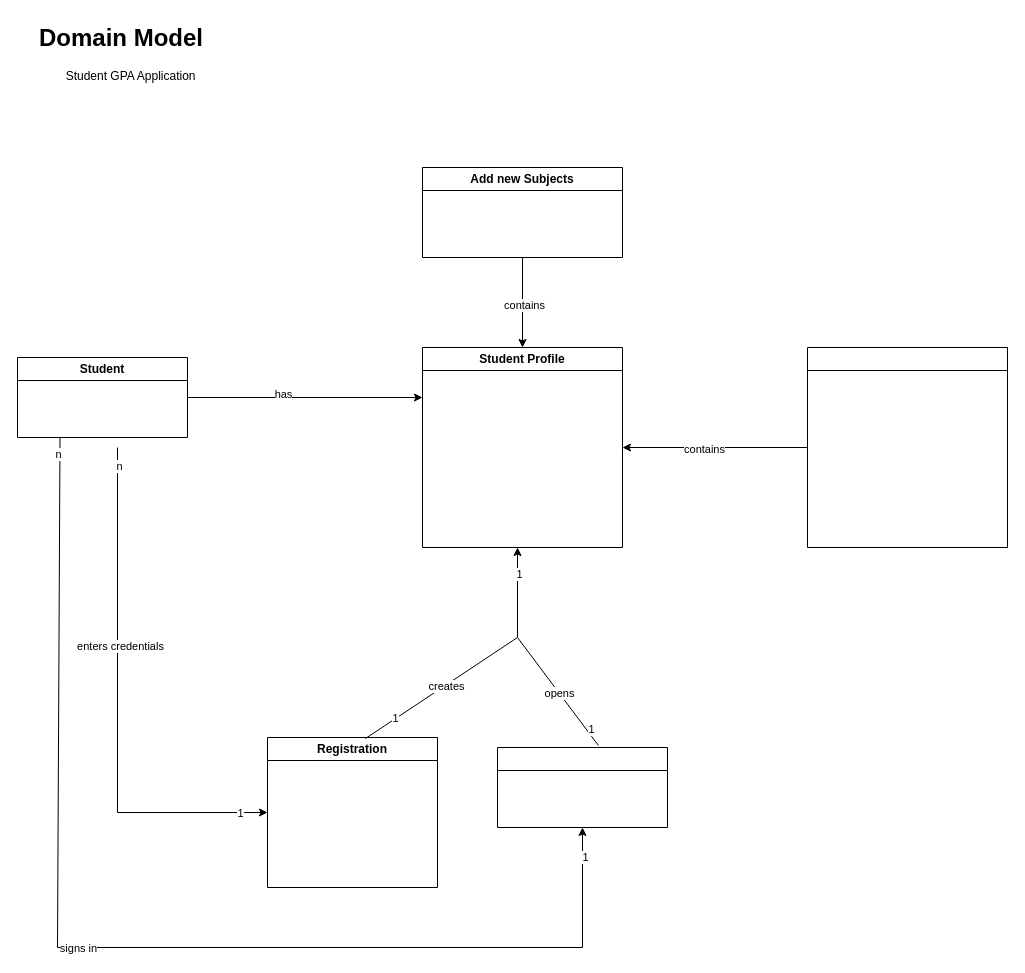
This 1025x973 diagram has some shape labels left out. The centre of each missing label's shape, as x and y in pixels:
"GPA-Calculator" belongs at point (907, 447).
"SignIn" belongs at point (582, 787).
